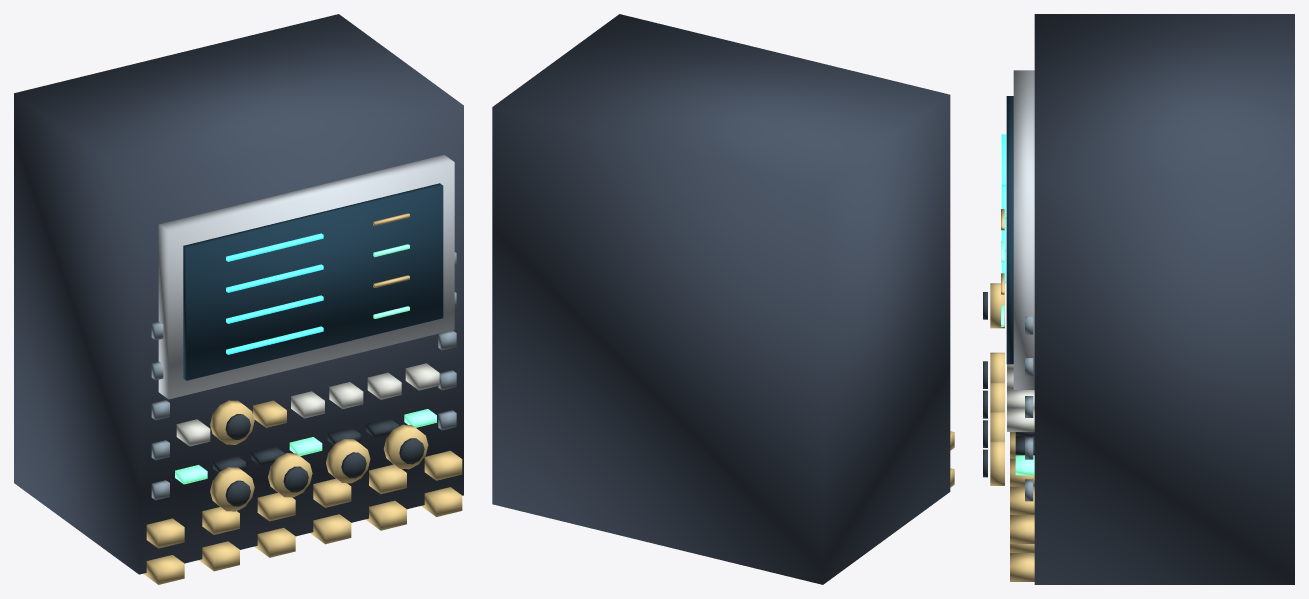
File: 85_L92_SamplingMissionSCADA.glb
The picture shows the model from 3 angles, left to right: view 1: azimuth 30°, elevation 25°; view 2: azimuth 150°, elevation 25°; view 3: azimuth 270°, elevation 25°; orthographic projection. The views are drawn at different scales.
Visible parts, largest first — view 1: L92_SamplingMissionSCADA, L92_SamplingMissionSCADA_Part_0011, L92_SamplingMissionSCADA_Part_0013, L92_SamplingMissionSCADA_Part_0015, L92_SamplingMissionSCADA_Part_0019, L92_SamplingMissionSCADA_Part_0017; view 2: L92_SamplingMissionSCADA; view 3: L92_SamplingMissionSCADA, L92_SamplingMissionSCADA_Part_0017, L92_SamplingMissionSCADA_Part_0019, L92_SamplingMissionSCADA_Part_0011, L92_SamplingMissionSCADA_Part_0013, L92_SamplingMissionSCADA_Part_0015.
Boxes of the visible parts, bbox=[...] form: L92_SamplingMissionSCADA: bbox=[14, 14, 463, 584]; L92_SamplingMissionSCADA_Part_0011: bbox=[210, 467, 254, 511]; L92_SamplingMissionSCADA_Part_0013: bbox=[268, 453, 312, 497]; L92_SamplingMissionSCADA_Part_0015: bbox=[326, 439, 370, 483]; L92_SamplingMissionSCADA_Part_0019: bbox=[210, 400, 254, 444]; L92_SamplingMissionSCADA_Part_0017: bbox=[384, 424, 428, 469]; L92_SamplingMissionSCADA: bbox=[492, 14, 954, 584]; L92_SamplingMissionSCADA: bbox=[1001, 14, 1294, 584]; L92_SamplingMissionSCADA_Part_0017: bbox=[990, 441, 1004, 485]; L92_SamplingMissionSCADA_Part_0019: bbox=[990, 283, 1004, 328]; L92_SamplingMissionSCADA_Part_0011: bbox=[990, 352, 1004, 381]; L92_SamplingMissionSCADA_Part_0013: bbox=[990, 382, 1004, 411]; L92_SamplingMissionSCADA_Part_0015: bbox=[990, 411, 1004, 440].
Size of the model in its own units: 1.12 by 1.3 by 0.896.
